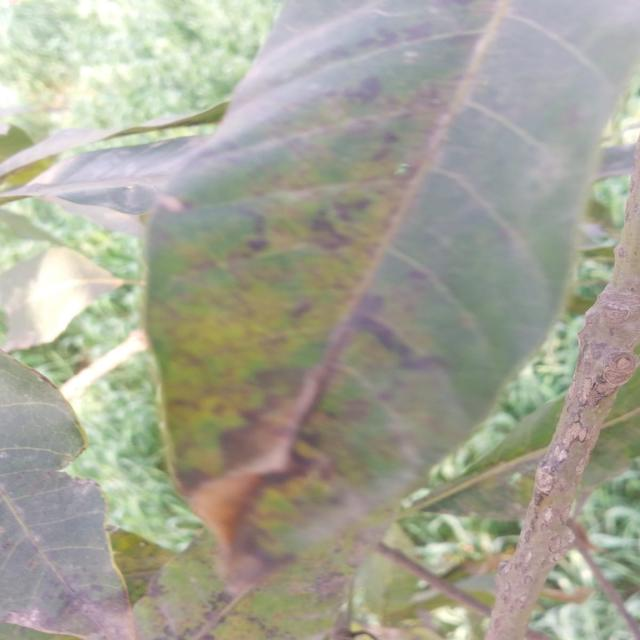Anthracnose: (304, 204, 353, 245), (245, 227, 273, 253)
black die: (345, 291, 438, 374), (349, 73, 386, 108)
